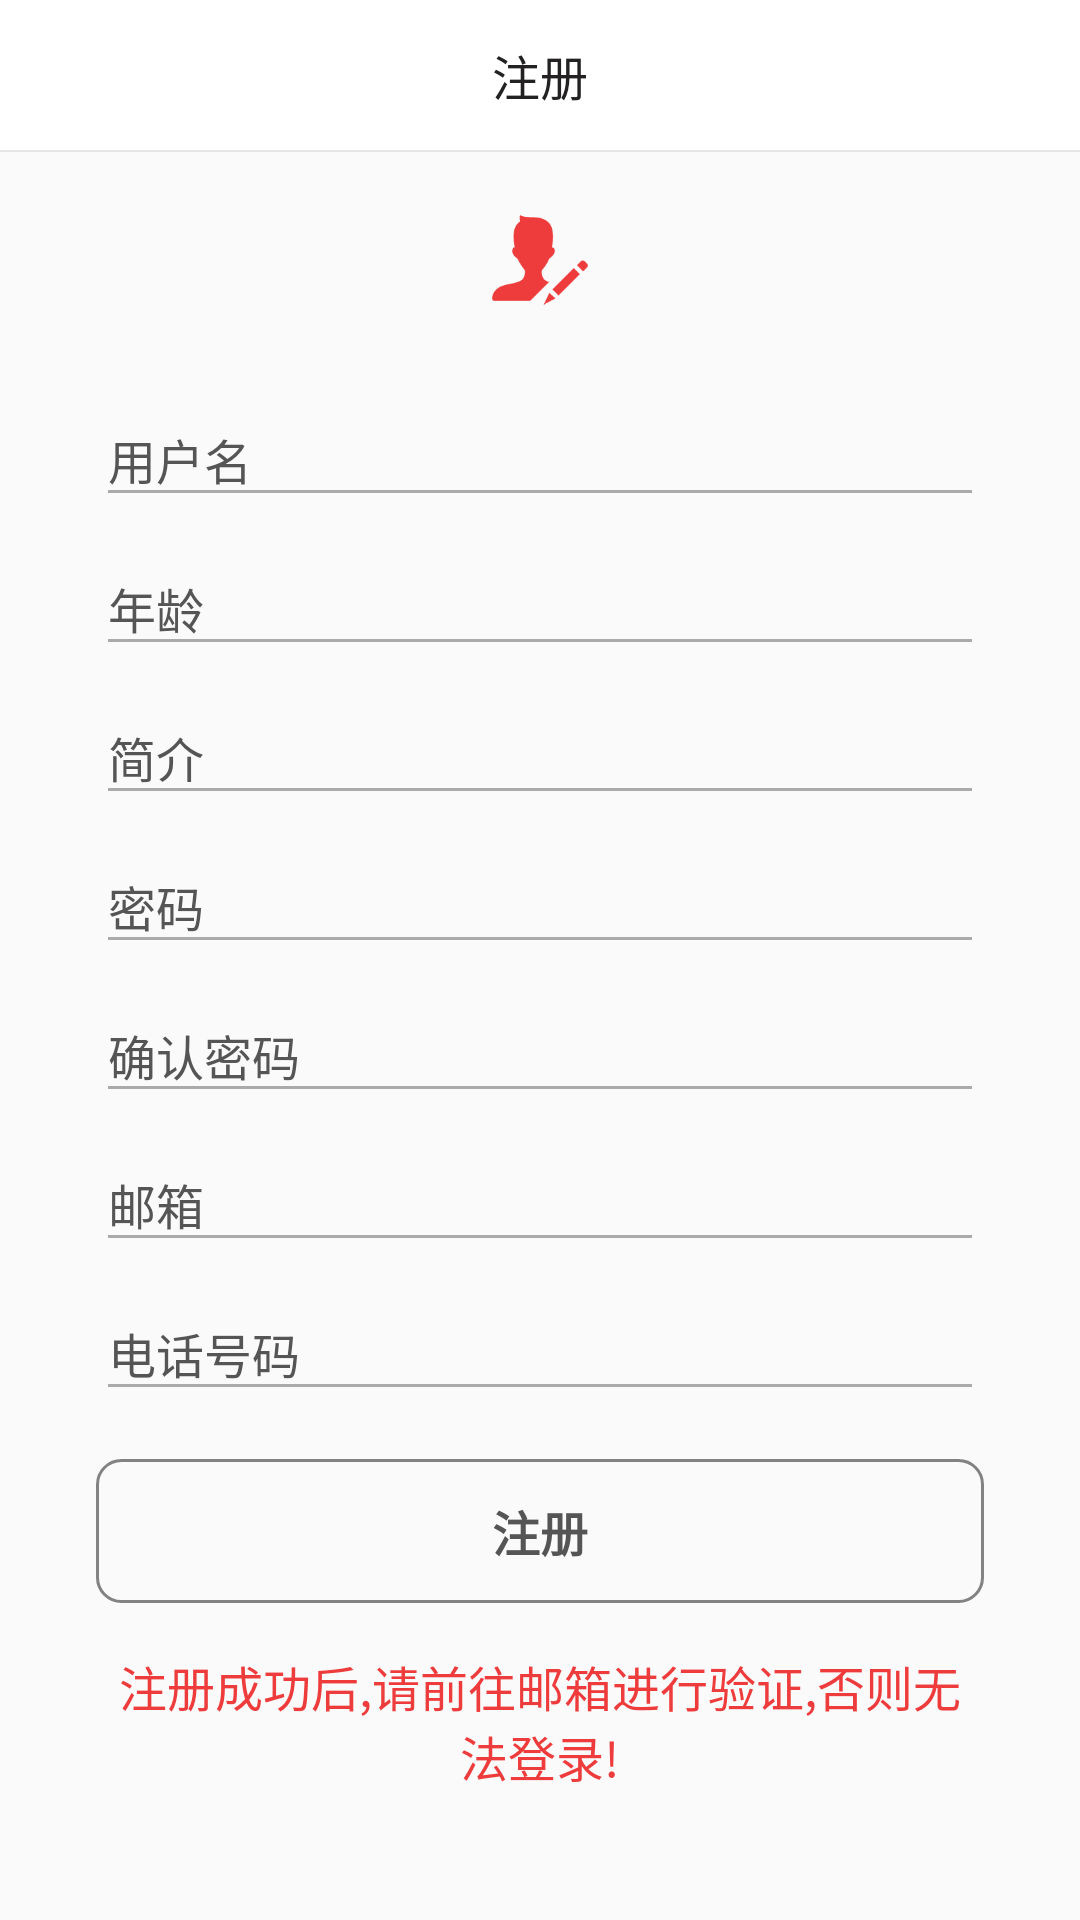

Icons on this 1080px×1920px Android screen, each with the point to tap as point (x, y):
register user: point (540, 260)
